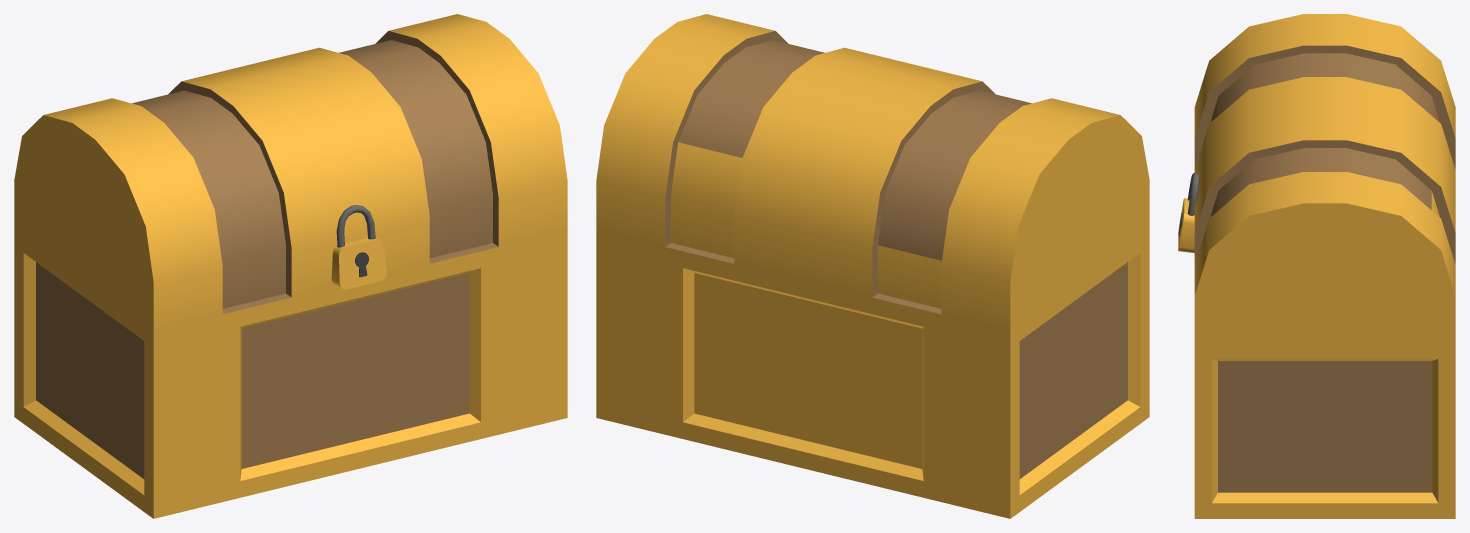
Rendered from Chest_5.fbx.
3 renders of one model, left to right at view 1: azimuth 30°, elevation 25°; view 2: azimuth 150°, elevation 25°; view 3: azimuth 270°, elevation 25°, orthographic. The views are drawn at different scales.
Visible parts, largest first — view 1: Chest_5; view 2: Chest_5; view 3: Chest_5.
Boxes of the visible parts, box(x1,y1,x2,y2) form: Chest_5: box(14, 14, 567, 518); Chest_5: box(596, 14, 1149, 518); Chest_5: box(1178, 14, 1455, 518).
Bounding box in the file's own units: 0.3999 × 0.3106 × 0.2475.
